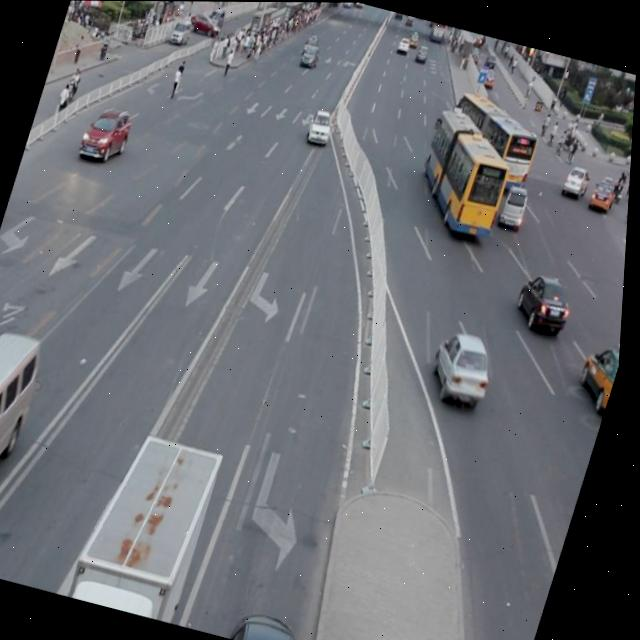bus: (72, 424, 232, 623)
car: (426, 323, 505, 409), (513, 268, 580, 334), (77, 99, 138, 166), (576, 334, 625, 411), (233, 604, 318, 640)
truck: (0, 318, 54, 515)
van: (409, 107, 524, 240)
